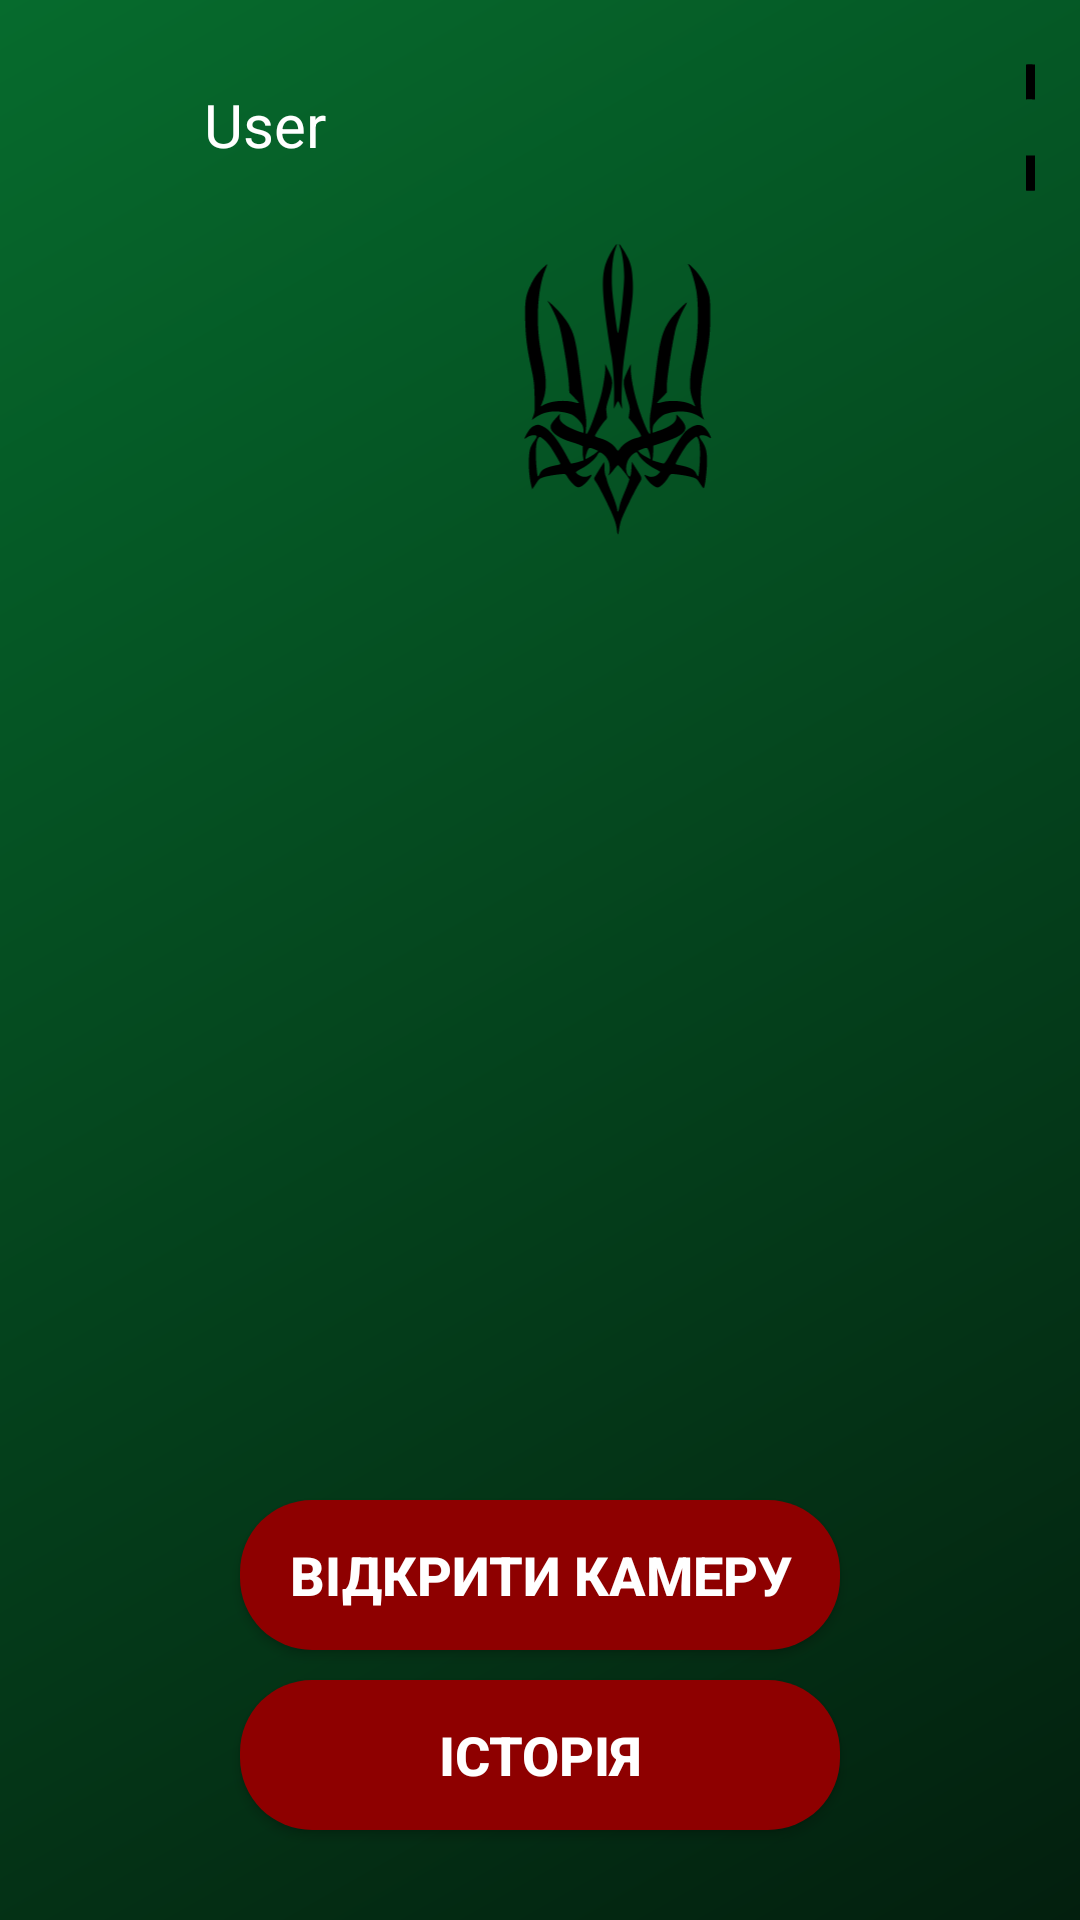

Where to tap for icons on this 1080 x 1920 app screen, as point (x, y):
trident: point (617, 389)
